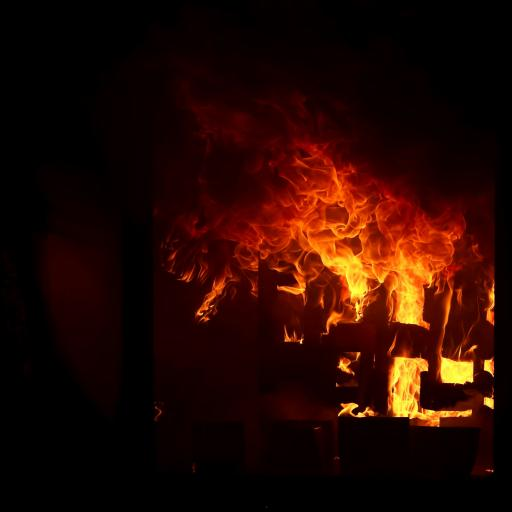buildingfire: (126, 58, 512, 512)
